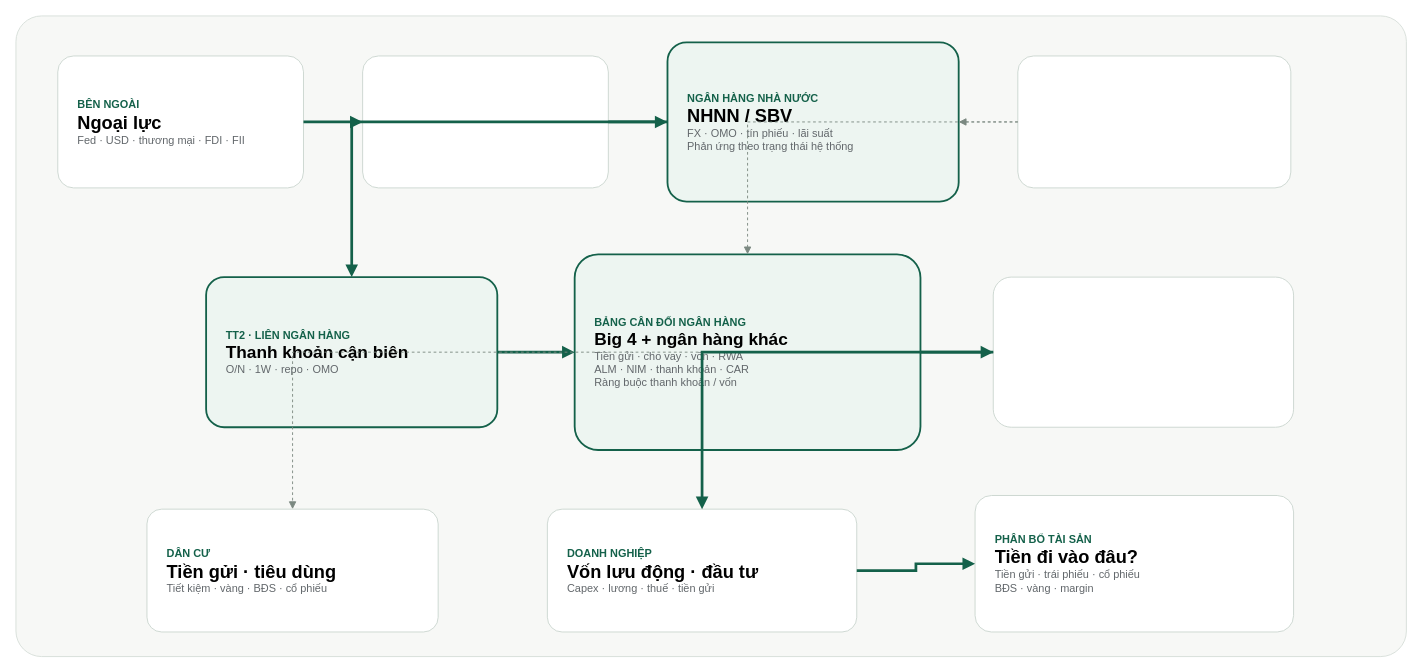
Some shapes in this 1422 by 672 pixel diagram are drawn without their labels. Here are the shapes that lost their labels. From the top down, the centre of each, then its label:
At [485,121]: "ÁP LỰC TỶ GIÁ USD/VND DXY · dòng vốn · cán cân ngoại tệ".
At [1154,121]: "TÀI KHÓA KBNN / Kho bạc Thuế · chi tiêu · TGA · trái phiếu".
At [1143,351]: "TT1 · KHÁCH HÀNG Huy động & tín dụng Dân cư · doanh nghiệp · lãi suất".
